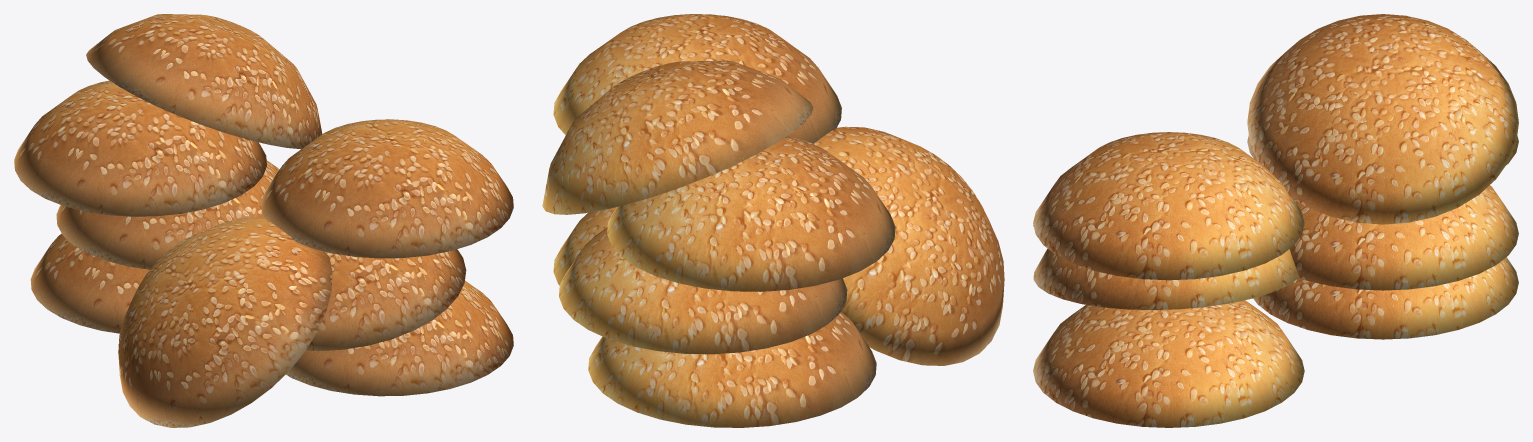
File: bread table.fbx
3 views of the same model, side by side, from view 1: azimuth 30°, elevation 25°; view 2: azimuth 150°, elevation 25°; view 3: azimuth 270°, elevation 25° (orthographic). The views are drawn at different scales.
Visible parts, largest first — view 1: Circle.002; view 2: Circle.002; view 3: Circle.002.
Part boxes in pixels (x1=…): Circle.002: x1=14, y1=14, x2=513, y2=427; Circle.002: x1=542, y1=14, x2=1004, y2=427; Circle.002: x1=1033, y1=14, x2=1518, y2=427.
Size of the model in its own units: 29.85 by 21.96 by 31.98.
2 materials, 2 textured.
